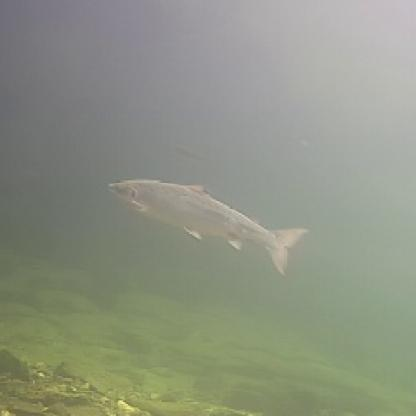salmon: (102, 171, 309, 274)
